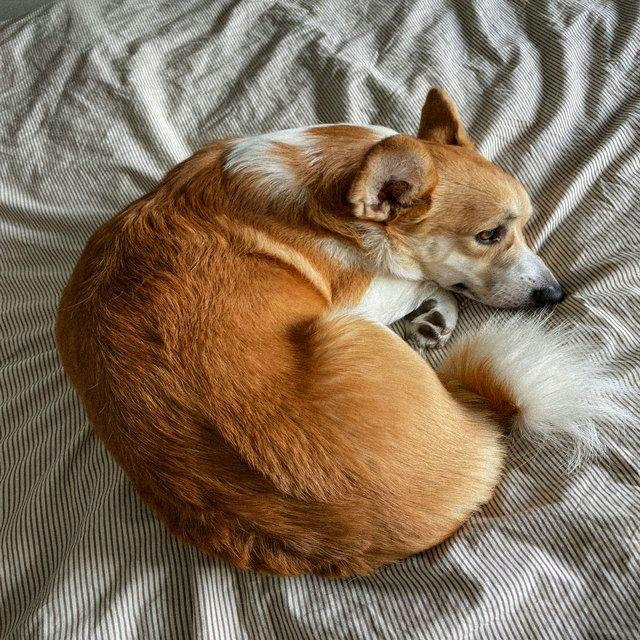corgi: (53, 85, 604, 580)
